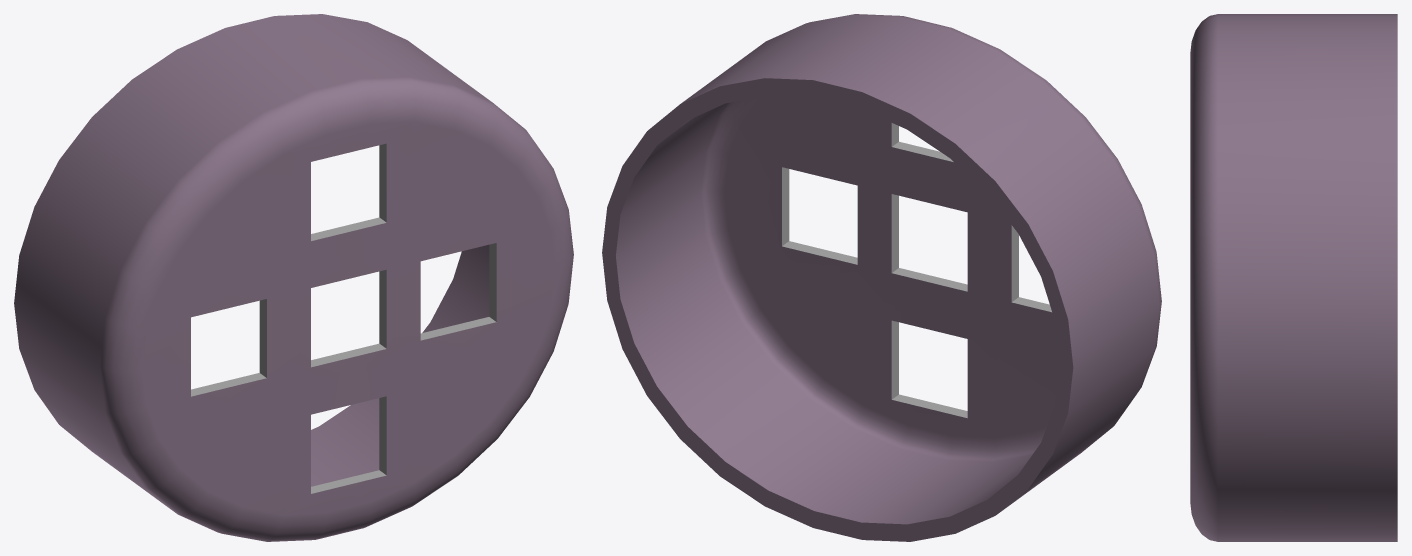
File: pig_s.fbx
3 views of the same model, side by side, from view 1: azimuth 30°, elevation 25°; view 2: azimuth 150°, elevation 25°; view 3: azimuth 270°, elevation 25° (orthographic). The views are drawn at different scales.
Visible parts, largest first — view 1: polySurface36; view 2: polySurface36; view 3: polySurface36.
Boxes of the visible parts, box(x1,y1,x2,y2) form: polySurface36: box(14, 14, 573, 541); polySurface36: box(602, 14, 1161, 541); polySurface36: box(1190, 14, 1397, 541).
Bounding box in the file's own units: 8.15 × 7.4 × 2.97.
